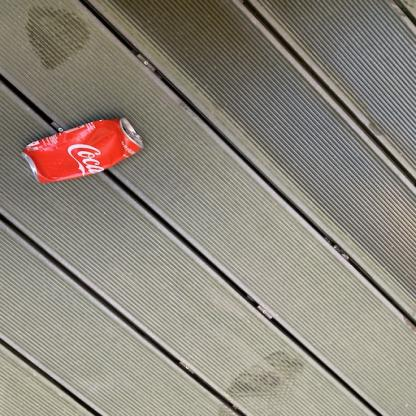trash: (21, 114, 147, 186)
